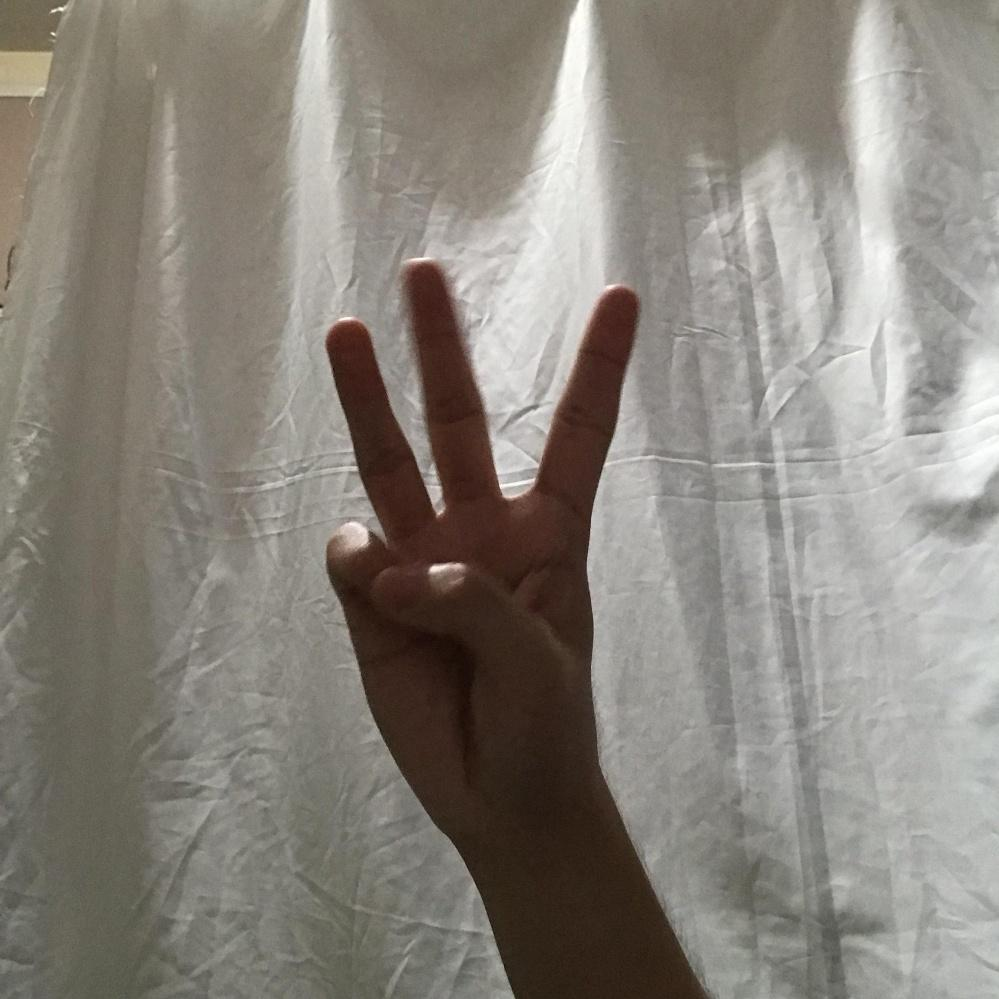w: (320, 258, 643, 799)
